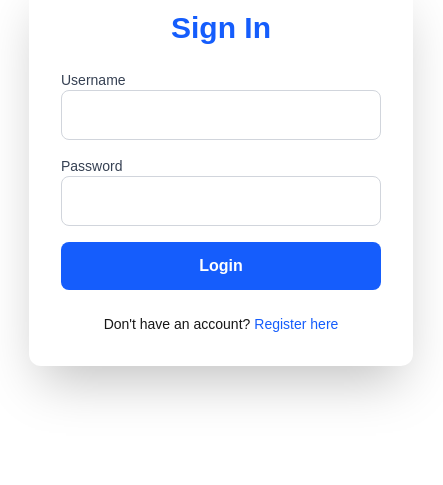
Test: AuthForm › handles login errors and displays an error message
The width and height of the screenshot is (443, 485).
Note: Simulate user input
In the field labelled "Username": x=221, y=115 [61, 90, 381, 140], type "wronguser"
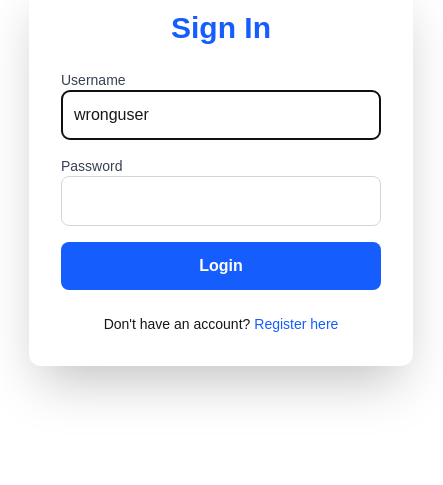
In the password field labelled "Password": x=221, y=201 [61, 176, 381, 226], type "wrongpass"
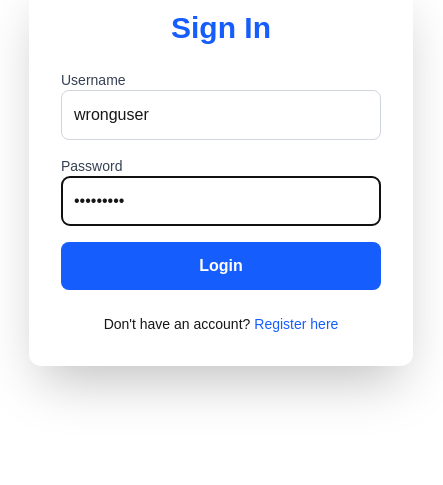
Note: Click the login button
Click the button "Login": x=221, y=266 [61, 242, 381, 290]
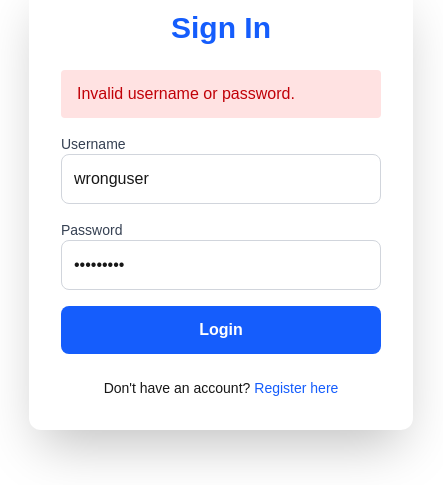
Check: the button "Login" is enabled, box [61, 306, 381, 354]
Check: the message "Invalid username or password." is shown, box [61, 70, 381, 118]
Check: the message reads "Invalid username or password.", box [77, 85, 295, 102]
